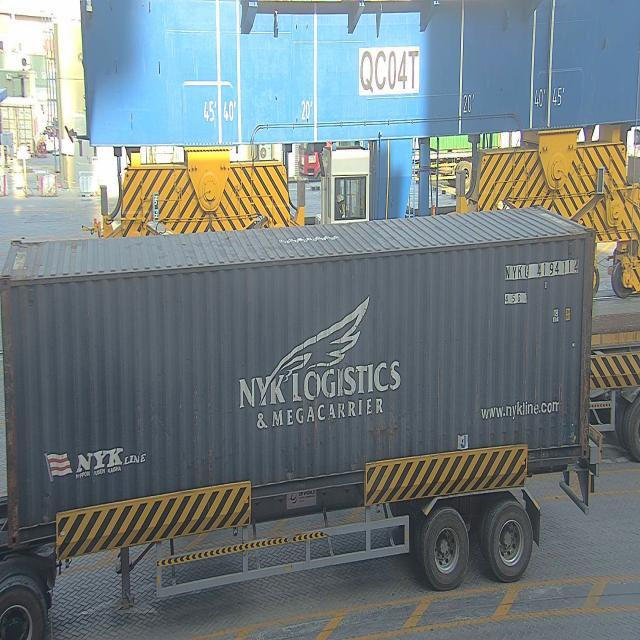rust: (576, 224, 600, 464)
